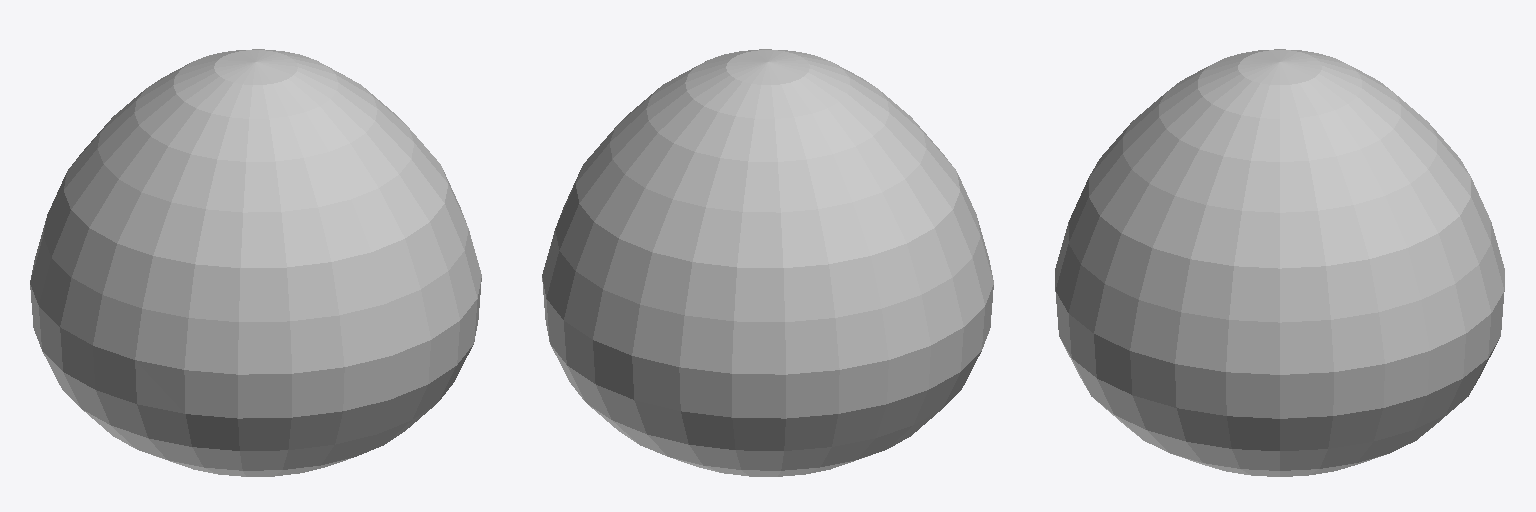
File: uglyenemy.obj
The picture shows the model from 3 angles: view 1: azimuth 30°, elevation 25°; view 2: azimuth 150°, elevation 25°; view 3: azimuth 270°, elevation 25°; orthographic projection.
Visible parts, largest first — view 1: Sphere; view 2: Sphere; view 3: Sphere.
Part boxes in pixels (bbox=[...]): Sphere: bbox=[30, 49, 481, 476]; Sphere: bbox=[542, 49, 993, 476]; Sphere: bbox=[1055, 49, 1504, 476].
Bounding box in the file's own units: 211 × 200 × 210.